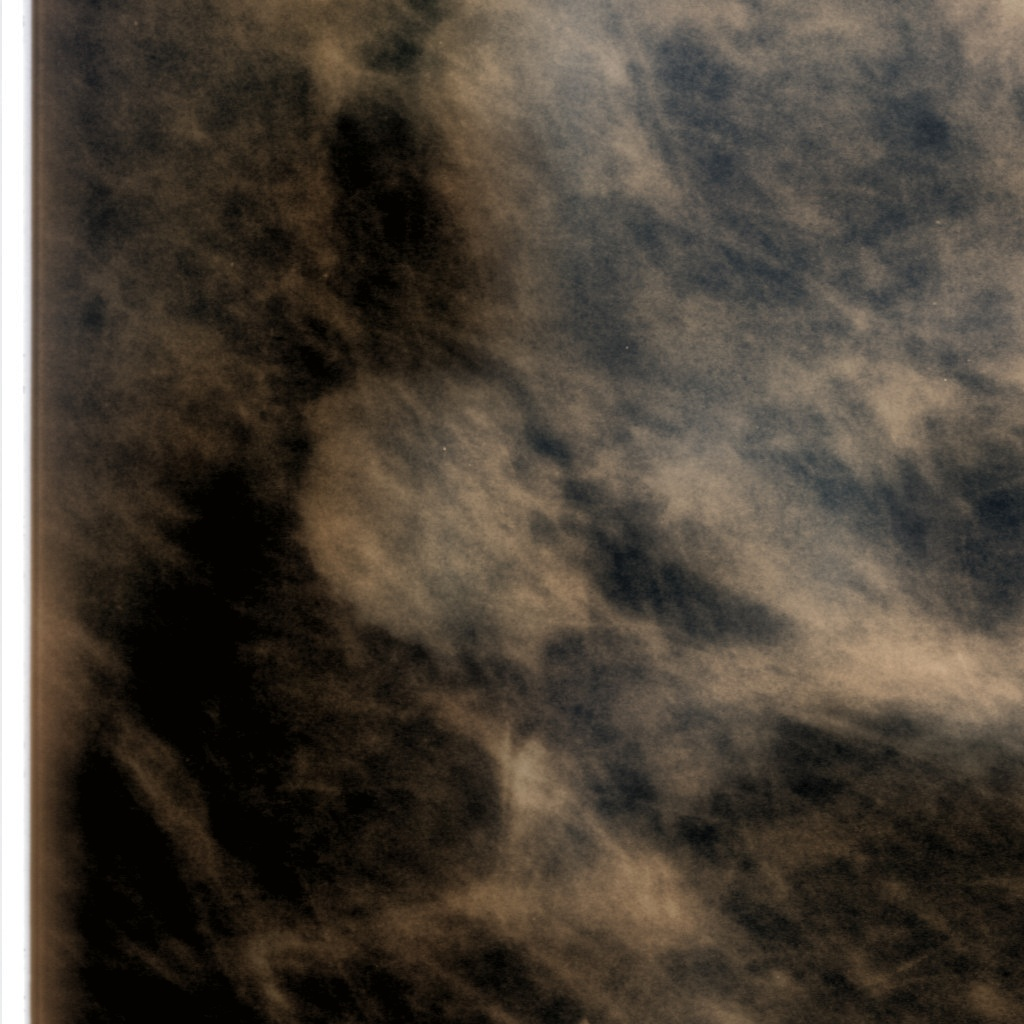tumor: (295, 374, 577, 650)
